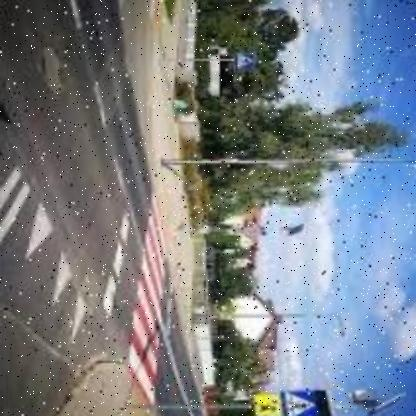Pedestrian Crossing: (281, 389, 318, 416), (235, 50, 258, 70)
